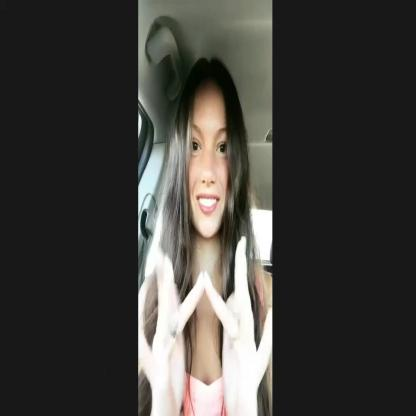Internet: (144, 235, 267, 416)
